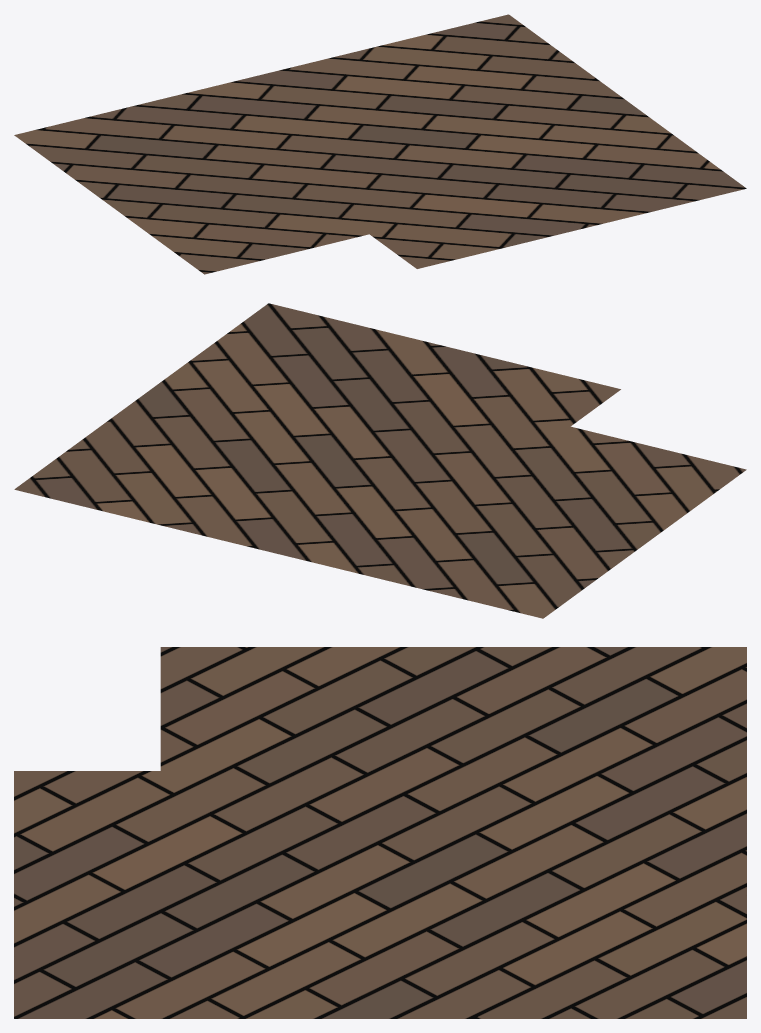
Rendered from N00_Piso_Studio_004.fbx.
3 views of the same model, one above another, from view 1: azimuth 30°, elevation 25°; view 2: azimuth 150°, elevation 25°; view 3: azimuth 270°, elevation 25° (orthographic). The views are drawn at different scales.
Parts seen in each view (by area): view 1: N00_Piso_Studio_004; view 2: N00_Piso_Studio_004; view 3: N00_Piso_Studio_004.
Part boxes in pixels (box(x1,y1,x2,y2)): N00_Piso_Studio_004: box(14, 14, 746, 274); N00_Piso_Studio_004: box(14, 303, 746, 618); N00_Piso_Studio_004: box(14, 647, 746, 1018).
Size of the model in its own units: 600 by 8.15e-05 by 500.
Materials: 1 (1 with a texture image).
